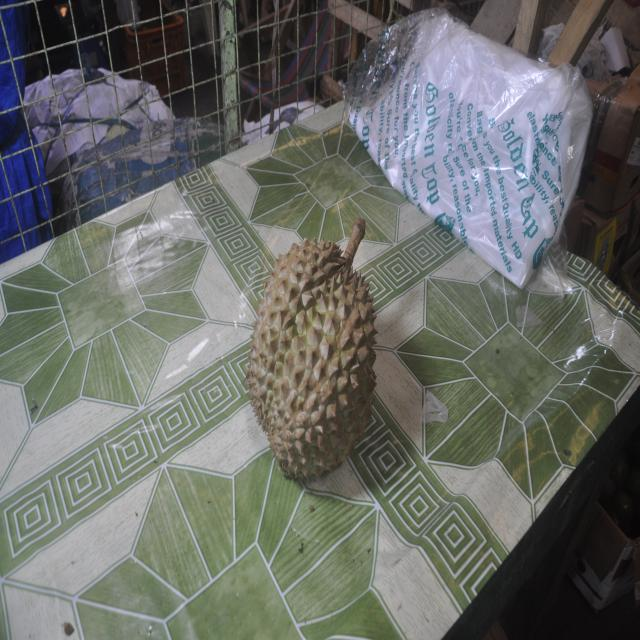mature: (244, 217, 377, 478)
